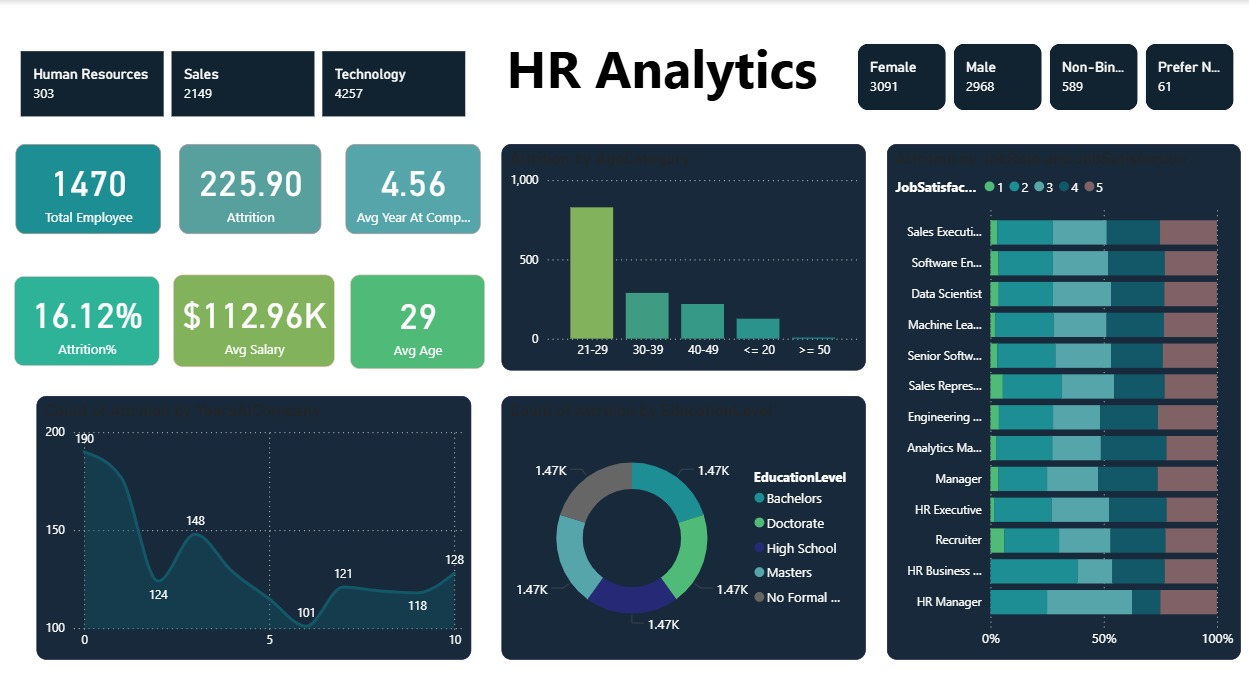

This screenshot's page, from the dashboard's own definition file:
{"tool":"powerbi","page":{"name":"HR","canvas":[1280,720],"ordinal":0},"visuals":[{"type":"areaChart","fields":{"Category":["Employee.YearsAtCompany"],"Y":["CountNonNull(Employee.Attrition)"]},"box":[38.3,404.1,443.9,269.4],"z":0},{"type":"donutChart","fields":{"Category":["EducationLevel.EducationLevel"],"Y":["CountNonNull(Employee.Attrition)"]},"box":[512.8,404.1,372,269.4],"z":1000},{"type":"clusteredColumnChart","title":"Attrition by AgeCategory","fields":{"Category":["Employee.AgeCategory"],"Y":["CountNonNull(Employee.Attrition)"]},"box":[512.8,147,372,231.2],"z":2000},{"type":"hundredPercentStackedBarChart","title":"Attrition by JobRole and JobSatisfaction","fields":{"Y":["CountNonNull(Employee.Attrition)"],"Series":["PerformanceRating.JobSatisfaction"],"Category":["Employee.JobRole"]},"box":[906.3,147,361.3,526.6],"z":3000},{"type":"card","fields":{"Values":["Count(Employee.EmployeeID)"]},"box":[17.3,146.5,148.5,91.9],"z":4000},{"type":"card","fields":{"Values":["Avg(MeasuresTable.NonActiveEmployees)"]},"box":[183.7,147,145.4,91.9],"z":5000},{"type":"card","fields":{"Values":["Avg(Employee.YearsAtCompany)"]},"box":[353.6,147,137.8,91.9],"z":6000},{"type":"card","fields":{"Values":["Employee.turnOverRate"]},"box":[15.8,281.2,148.5,91.9],"z":7000},{"type":"card","fields":{"Values":["Avg(Employee.Salary)"]},"box":[177.6,280.1,165.3,94.9],"z":8000},{"type":"card","fields":{"Values":["Avg(Employee.Age)"]},"box":[358.7,279.6,137.8,96.4],"z":9000},{"type":"advancedSlicerVisual","fields":{"Values":["Employee.Gender"]},"box":[871.1,19.9,396.5,98],"z":10000},{"type":"advancedSlicerVisual","fields":{"Values":["Employee.Department"]},"box":[16.8,27.6,465.4,96.4],"z":11000},{"type":"textbox","box":[512.8,27.6,339.8,91.9],"z":12000}]}

Visuals, with their boxes on the page's 1280x720 design canvas (x1, y1, x2, y2). These are canvas units, not pixel positions in the 1249x678 screenshot, which may show the page scaled, cropped or inside an application window:
areaChart - Employee.YearsAtCompany x CountNonNull(Employee.Attrition): select_region(38, 404, 482, 674)
donutChart - EducationLevel.EducationLevel x CountNonNull(Employee.Attrition): select_region(513, 404, 885, 674)
"Attrition by AgeCategory" clusteredColumnChart: select_region(513, 147, 885, 378)
"Attrition by JobRole and JobSatisfaction" hundredPercentStackedBarChart: select_region(906, 147, 1268, 674)
card - Count(Employee.EmployeeID): select_region(17, 146, 166, 238)
card - Avg(MeasuresTable.NonActiveEmployees): select_region(184, 147, 329, 239)
card - Avg(Employee.YearsAtCompany): select_region(354, 147, 491, 239)
card - Employee.turnOverRate: select_region(16, 281, 164, 373)
card - Avg(Employee.Salary): select_region(178, 280, 343, 375)
card - Avg(Employee.Age): select_region(359, 280, 496, 376)
advancedSlicerVisual - Employee.Gender: select_region(871, 20, 1268, 118)
advancedSlicerVisual - Employee.Department: select_region(17, 28, 482, 124)
textbox: select_region(513, 28, 853, 120)
